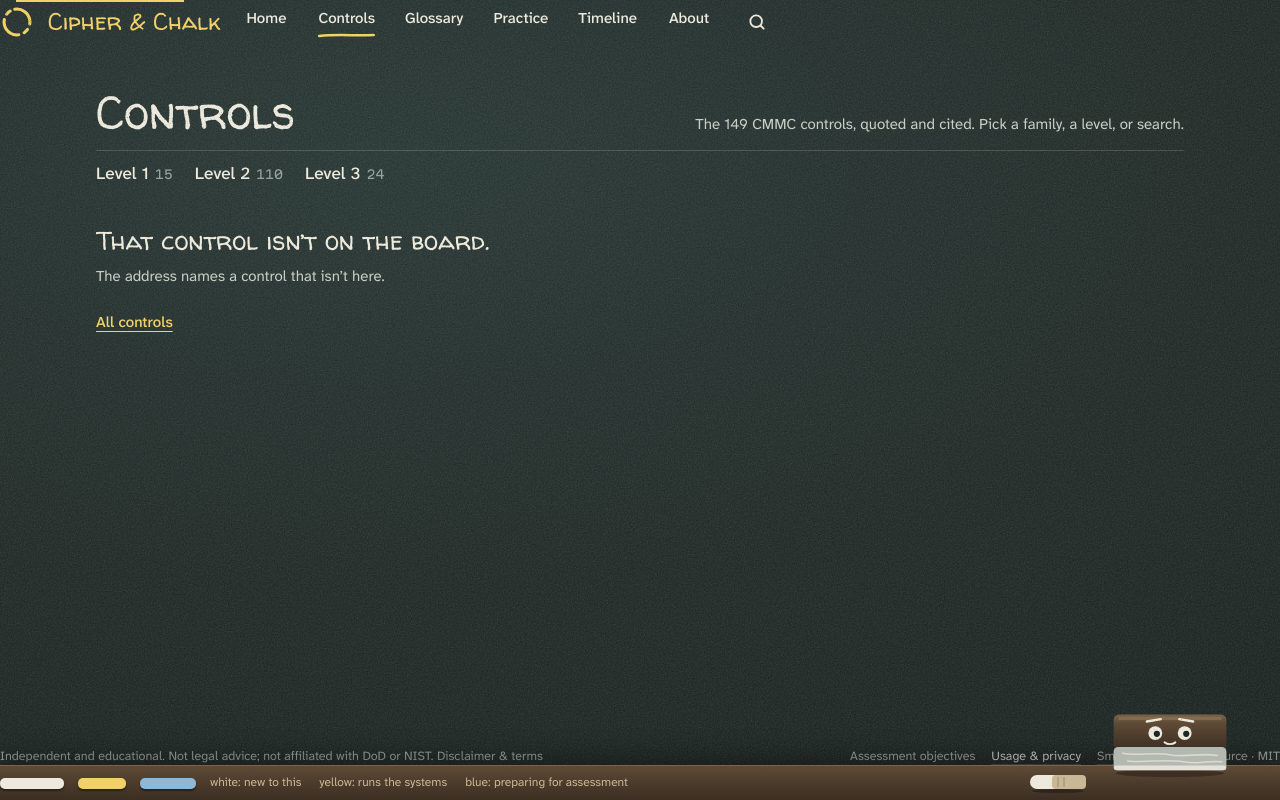
Test: Explorer navigation regressions › focuses the find line after recovering an invalid address
Check: the search field labelled "Find controls" is not shown
Click the link "All controls": (134, 322) [96,312,173,332]
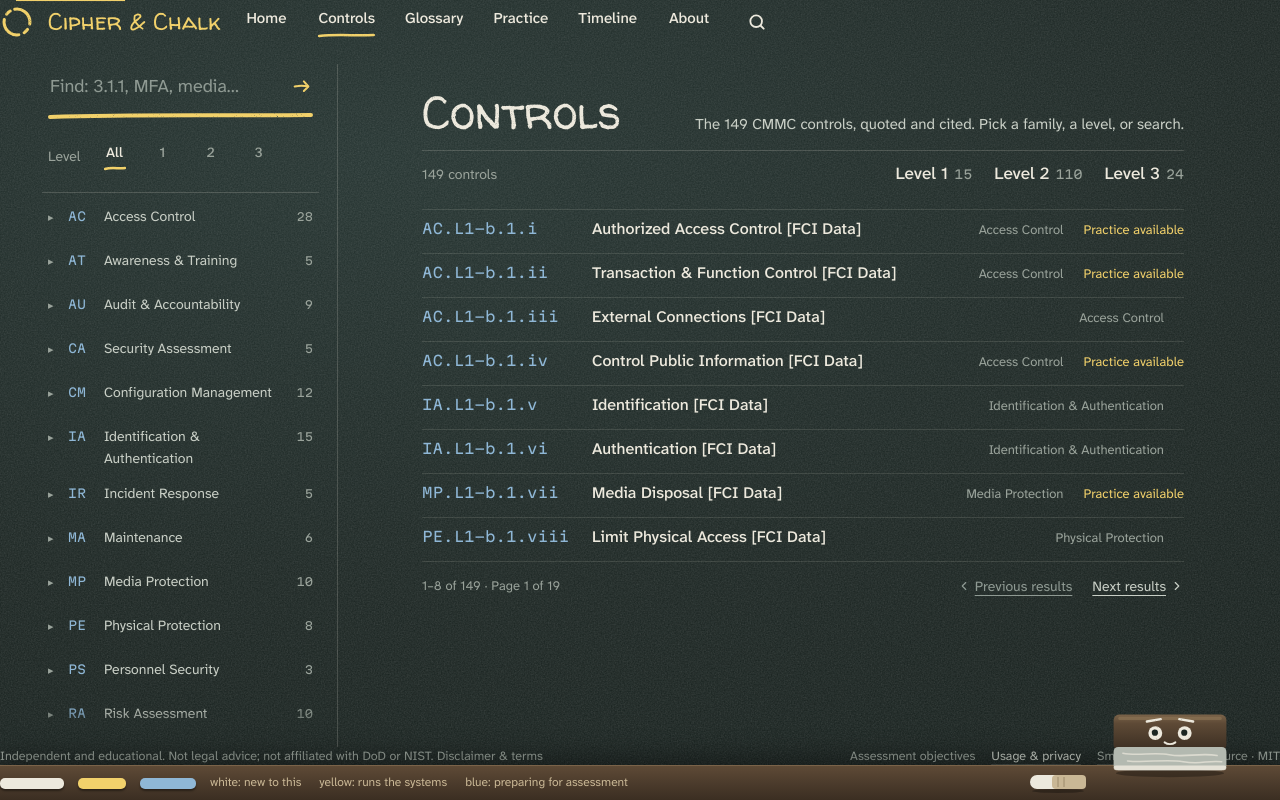
Check: the search field named "Find controls" is enabled, box [48,64,281,108]
